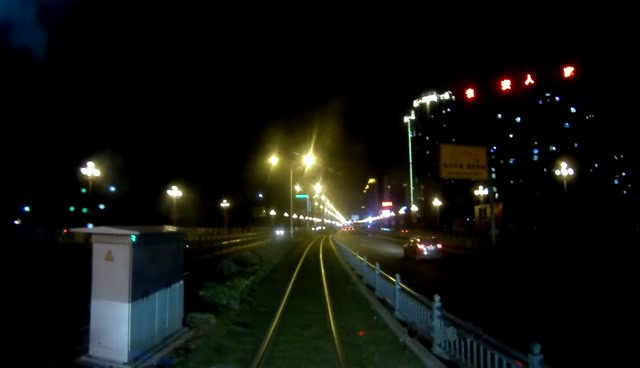car: (401, 234, 450, 264)
